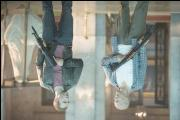gun: (109, 26, 156, 71), (30, 24, 57, 66)
